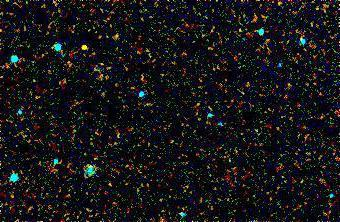star: (70, 32, 100, 62)
